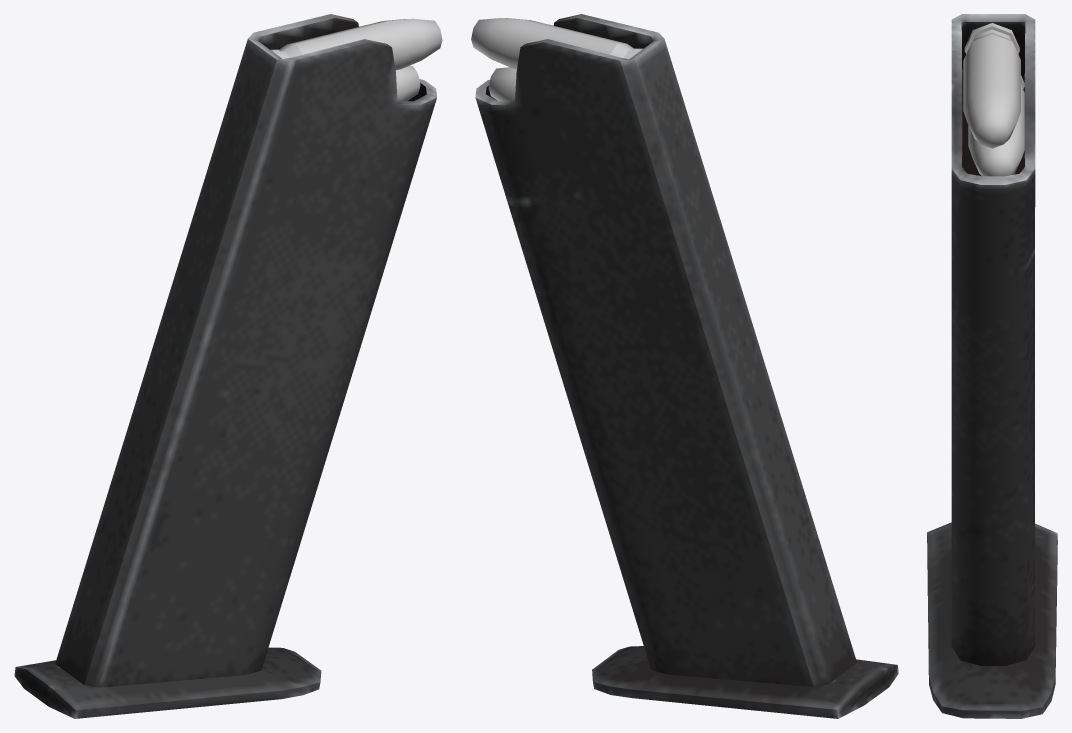
Rendered from Pistol_01_AdditionalMeshes.fbx.
3 views of the same model, side by side, from view 1: azimuth 30°, elevation 25°; view 2: azimuth 150°, elevation 25°; view 3: azimuth 270°, elevation 25° (orthographic). The views are drawn at different scales.
Parts seen in each view (by area): view 1: Pistol_01_Magazine_Mesh_Separated, Pistol_01_Magazine_Full_Mesh; view 2: Pistol_01_Magazine_Mesh_Separated, Pistol_01_Magazine_Full_Mesh; view 3: Pistol_01_Magazine_Mesh_Separated, Pistol_01_Magazine_Full_Mesh.
Boxes of the visible parts, bbox=[...] form: Pistol_01_Magazine_Mesh_Separated: bbox=[14, 14, 436, 718]; Pistol_01_Magazine_Full_Mesh: bbox=[270, 18, 442, 101]; Pistol_01_Magazine_Mesh_Separated: bbox=[475, 14, 898, 718]; Pistol_01_Magazine_Full_Mesh: bbox=[471, 18, 642, 101]; Pistol_01_Magazine_Mesh_Separated: bbox=[927, 14, 1057, 718]; Pistol_01_Magazine_Full_Mesh: bbox=[963, 23, 1024, 176].
Size of the model in its own units: 7.94 by 11.85 by 2.06.
